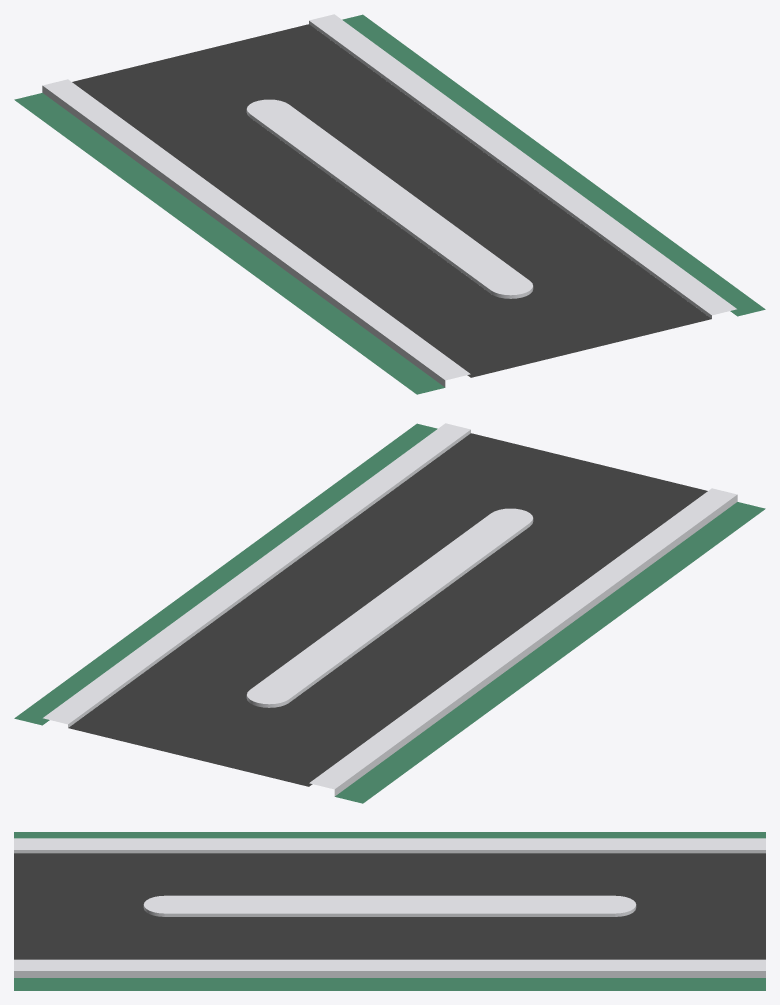
The model's file is road-straight-long-center.glb.
3 renders of one model, top to bottom at view 1: azimuth 30°, elevation 25°; view 2: azimuth 150°, elevation 25°; view 3: azimuth 270°, elevation 25°, orthographic. The views are drawn at different scales.
Visible parts, largest first — view 1: roadStraightLongMid; view 2: roadStraightLongMid; view 3: roadStraightLongMid.
Boxes of the visible parts, x1,y1,x2,y2 form: roadStraightLongMid: (14, 14, 765, 394); roadStraightLongMid: (14, 423, 765, 803); roadStraightLongMid: (14, 832, 765, 990).
Bounding box in the file's own units: 1 × 0.02 × 2.
